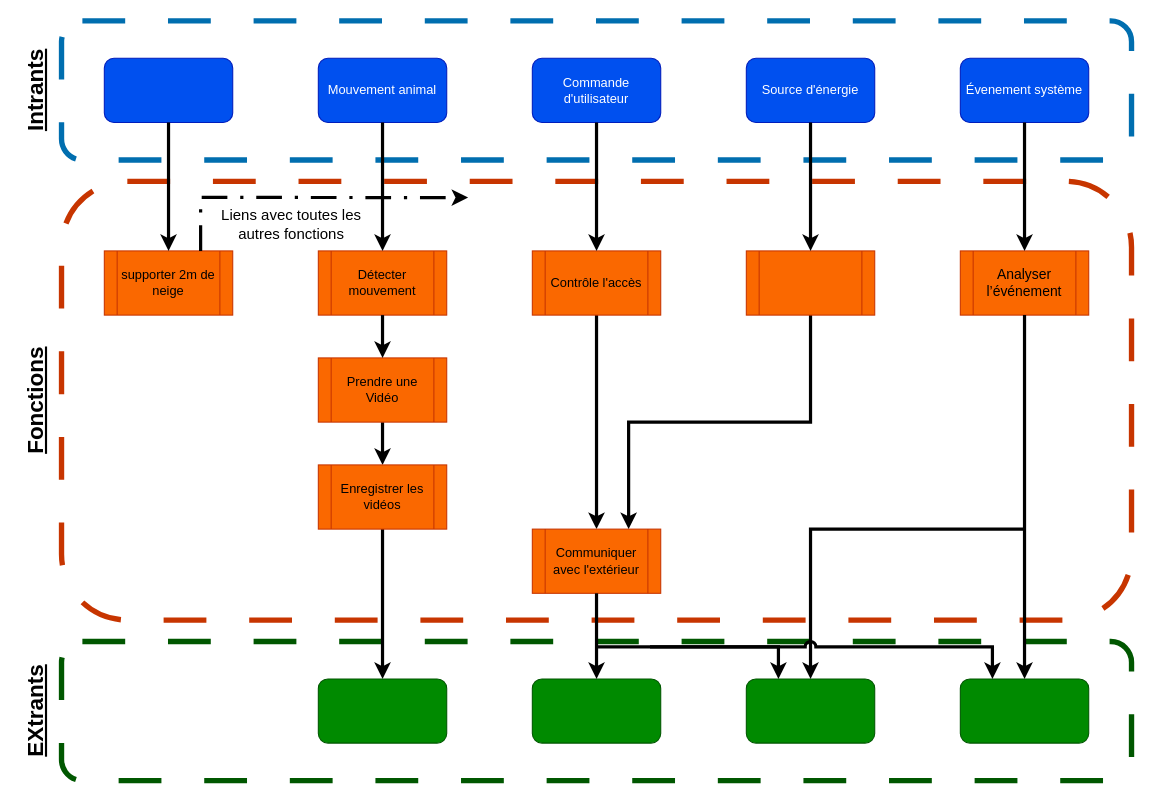
This 1152x801 diagram has some shape labels left out. The shapes that lost their labels are listed below. From the top down, each one's centre as x and y in pixels, then its label:
At [168,90]: "Conditions météorologiques".
At [810,282]: "Gestion de l'énergie".
At [382,710]: "Données archivées".
At [596,710]: "Interface".
At [810,710]: "Alertes".
At [1024,710]: "état du système".
